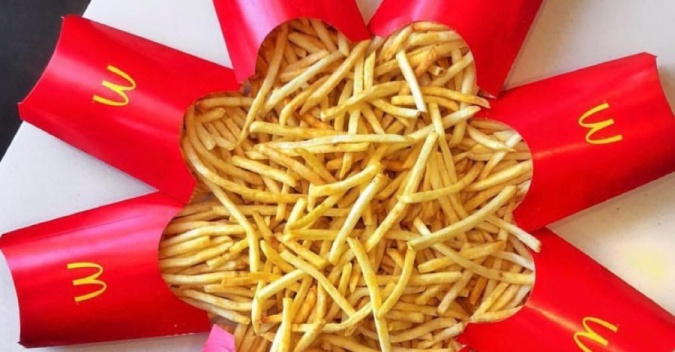mcdonalds: (577, 98, 632, 148), (62, 256, 111, 308), (92, 60, 138, 113), (564, 313, 625, 352)
